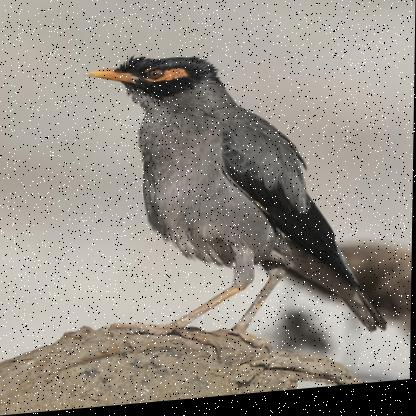Burung: (78, 39, 392, 367)
